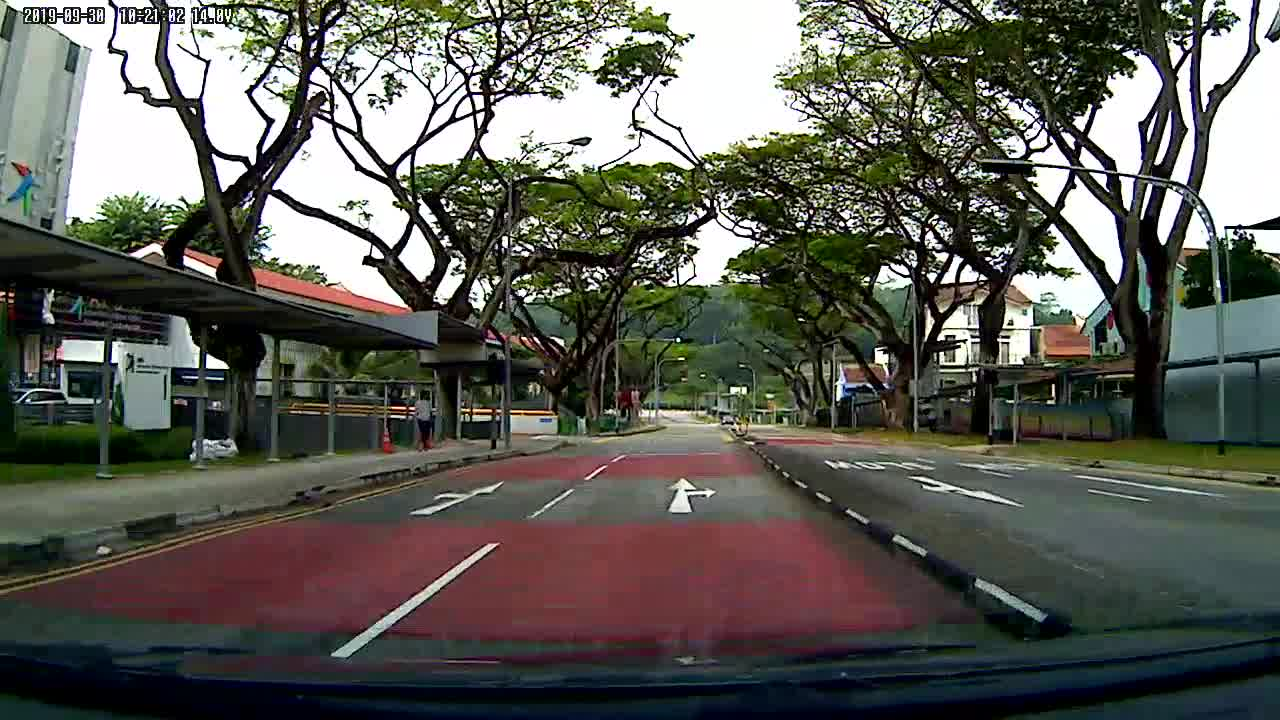car: (720, 414, 738, 429)
